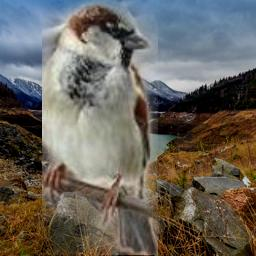Sparrow: (42, 0, 158, 255)
